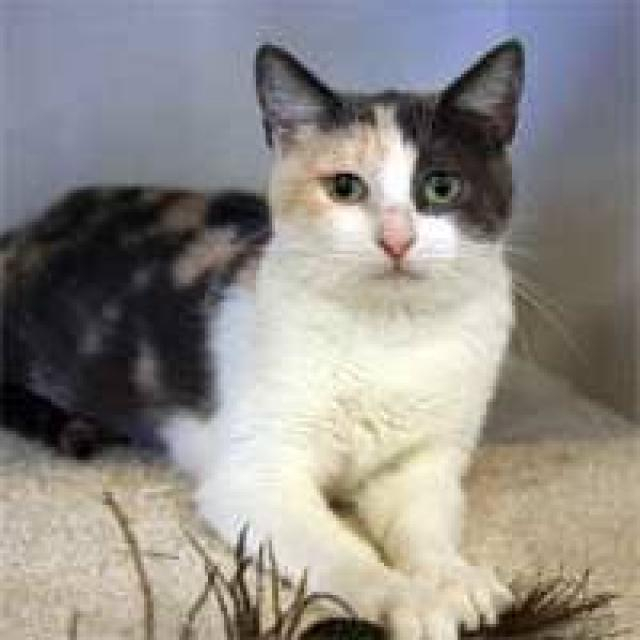cat: (0, 35, 576, 637)
